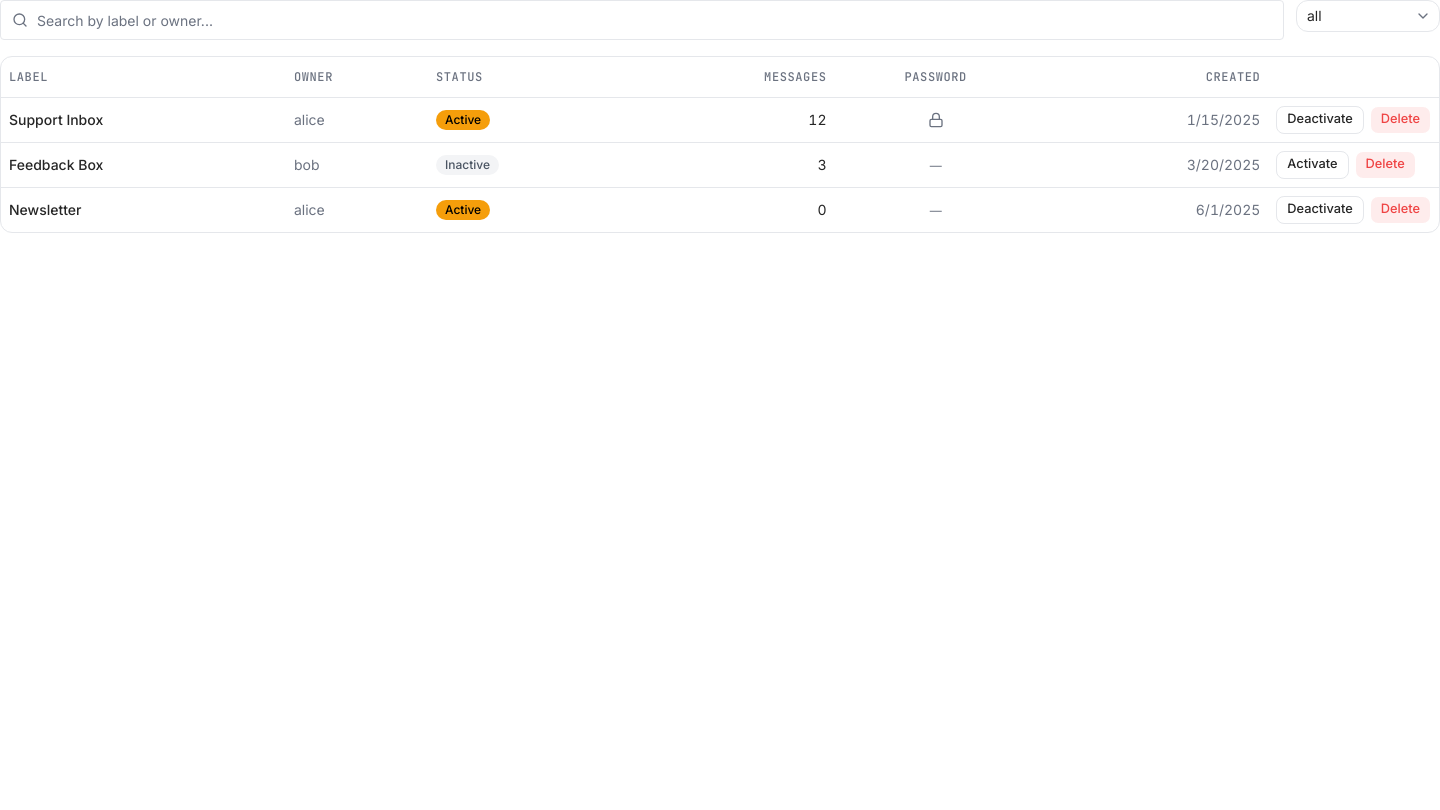
Scenario: AdminBoxesPage › delete dialog › shows confirmation dialog when Delete clicked
Expected: the text "Support Inbox" is shown, [1, 97, 286, 142]
Click the button labelled "Delete" in the row of "Support Inbox".
click(1400, 120)  # box [1370, 106, 1431, 134]
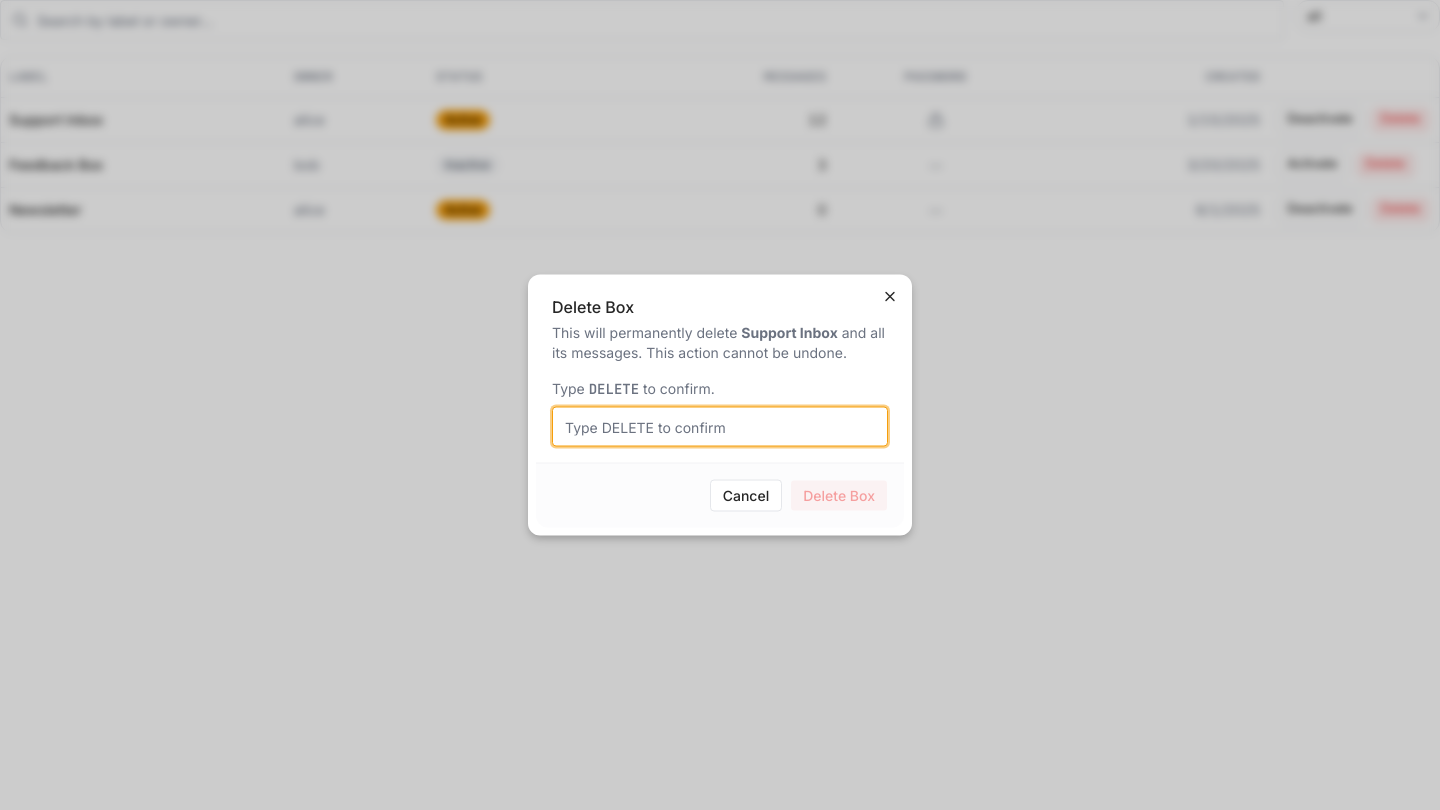
Expected: the heading "Delete Box" is shown, [552, 296, 634, 316]
Expected: the text "permanently delete" is shown, [552, 324, 741, 340]
